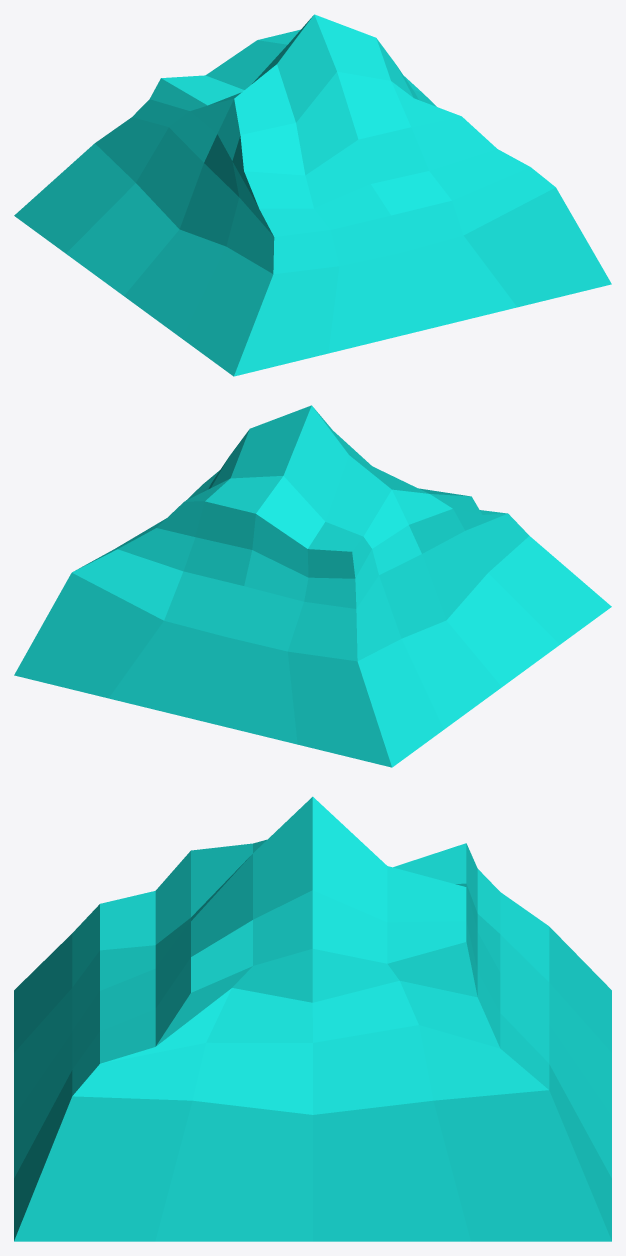
File: Iceberg.fbx
3 views of the same model, one above another, from view 1: azimuth 30°, elevation 25°; view 2: azimuth 150°, elevation 25°; view 3: azimuth 270°, elevation 25° (orthographic). The views are drawn at different scales.
Parts seen in each view (by area): view 1: Cube; view 2: Cube; view 3: Cube.
Boxes of the visible parts, bbox=[...] form: Cube: bbox=[14, 14, 611, 376]; Cube: bbox=[14, 405, 611, 767]; Cube: bbox=[14, 796, 611, 1241].
Size of the model in its own units: 132 by 131 by 77.76.
